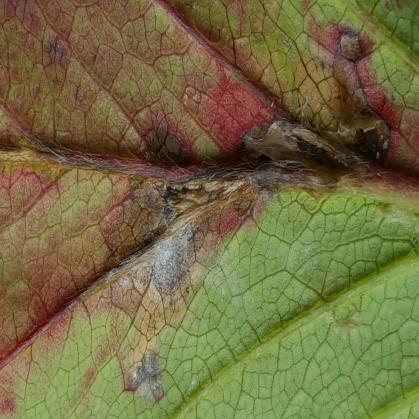Angular Leafspot: (0, 0, 418, 418)
